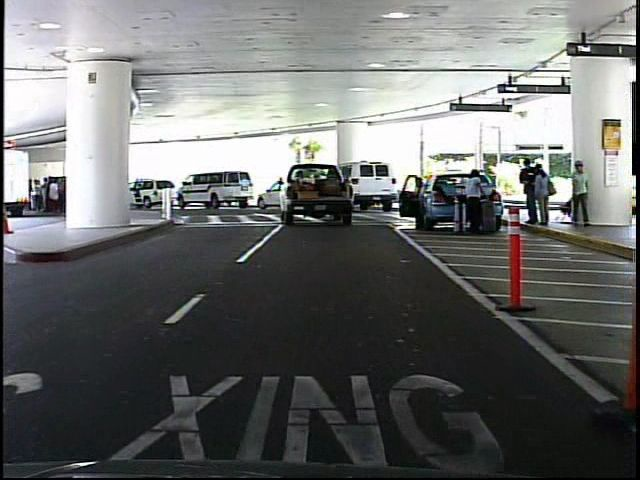person: (457, 166, 489, 240), (565, 159, 592, 233)
